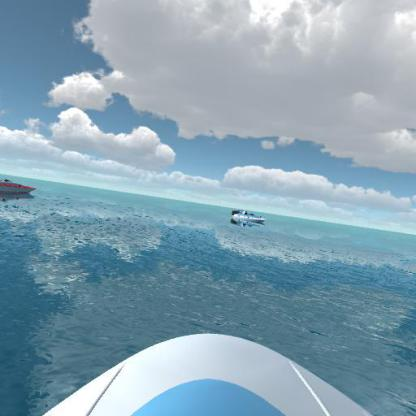usv1: (230, 204, 269, 230)
usv3: (0, 171, 39, 200)
